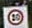limite 30: (7, 8, 23, 25)
